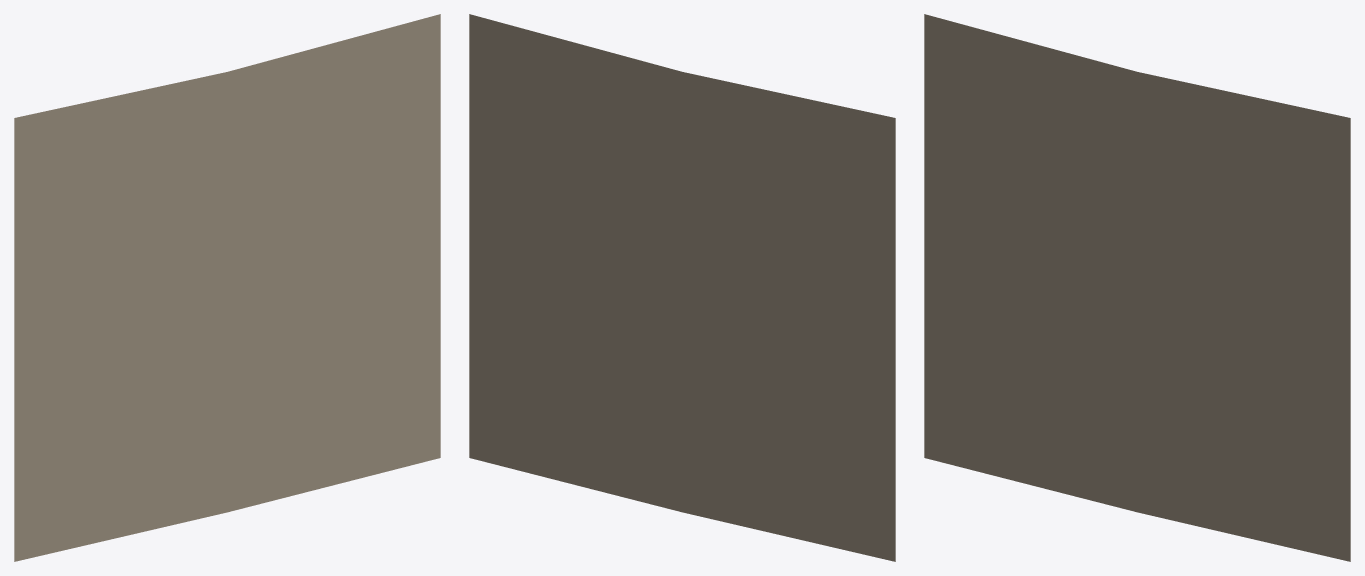
File: SM_NetWall_1x1.fbx
The picture shows the model from 3 angles, left to right: view 1: azimuth 30°, elevation 25°; view 2: azimuth 150°, elevation 25°; view 3: azimuth 330°, elevation 25°; orthographic projection.
Parts seen in each view (by area): view 1: SM_Net_1x1; view 2: SM_Net_1x1; view 3: SM_Net_1x1.
Boxes of the visible parts, bbox=[...] form: SM_Net_1x1: bbox=[14, 14, 440, 561]; SM_Net_1x1: bbox=[469, 14, 895, 561]; SM_Net_1x1: bbox=[924, 14, 1350, 561].
Size of the model in its own units: 100 by 100 by 2.59e-06.
